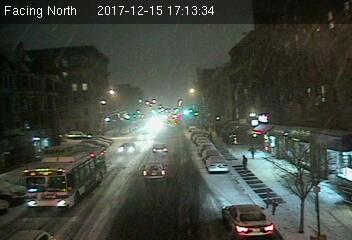bus: (24, 147, 108, 210)
car: (223, 203, 277, 237), (142, 161, 167, 181), (206, 156, 228, 172), (116, 142, 137, 156), (150, 144, 169, 155)
pedestrian: (241, 153, 247, 173), (249, 141, 255, 156)
